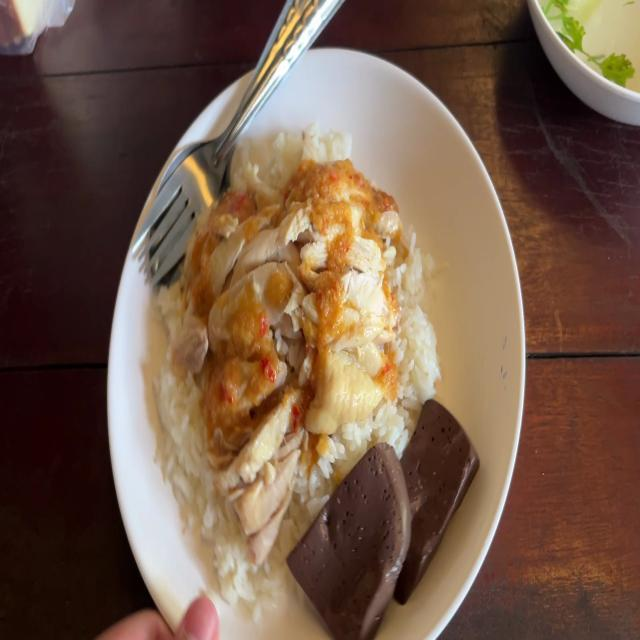boiled_chicken: (195, 180, 399, 463)
boiled_chicken_blood_jelly: (292, 450, 396, 630), (380, 396, 476, 580)
chicken_rice: (168, 129, 465, 612)
